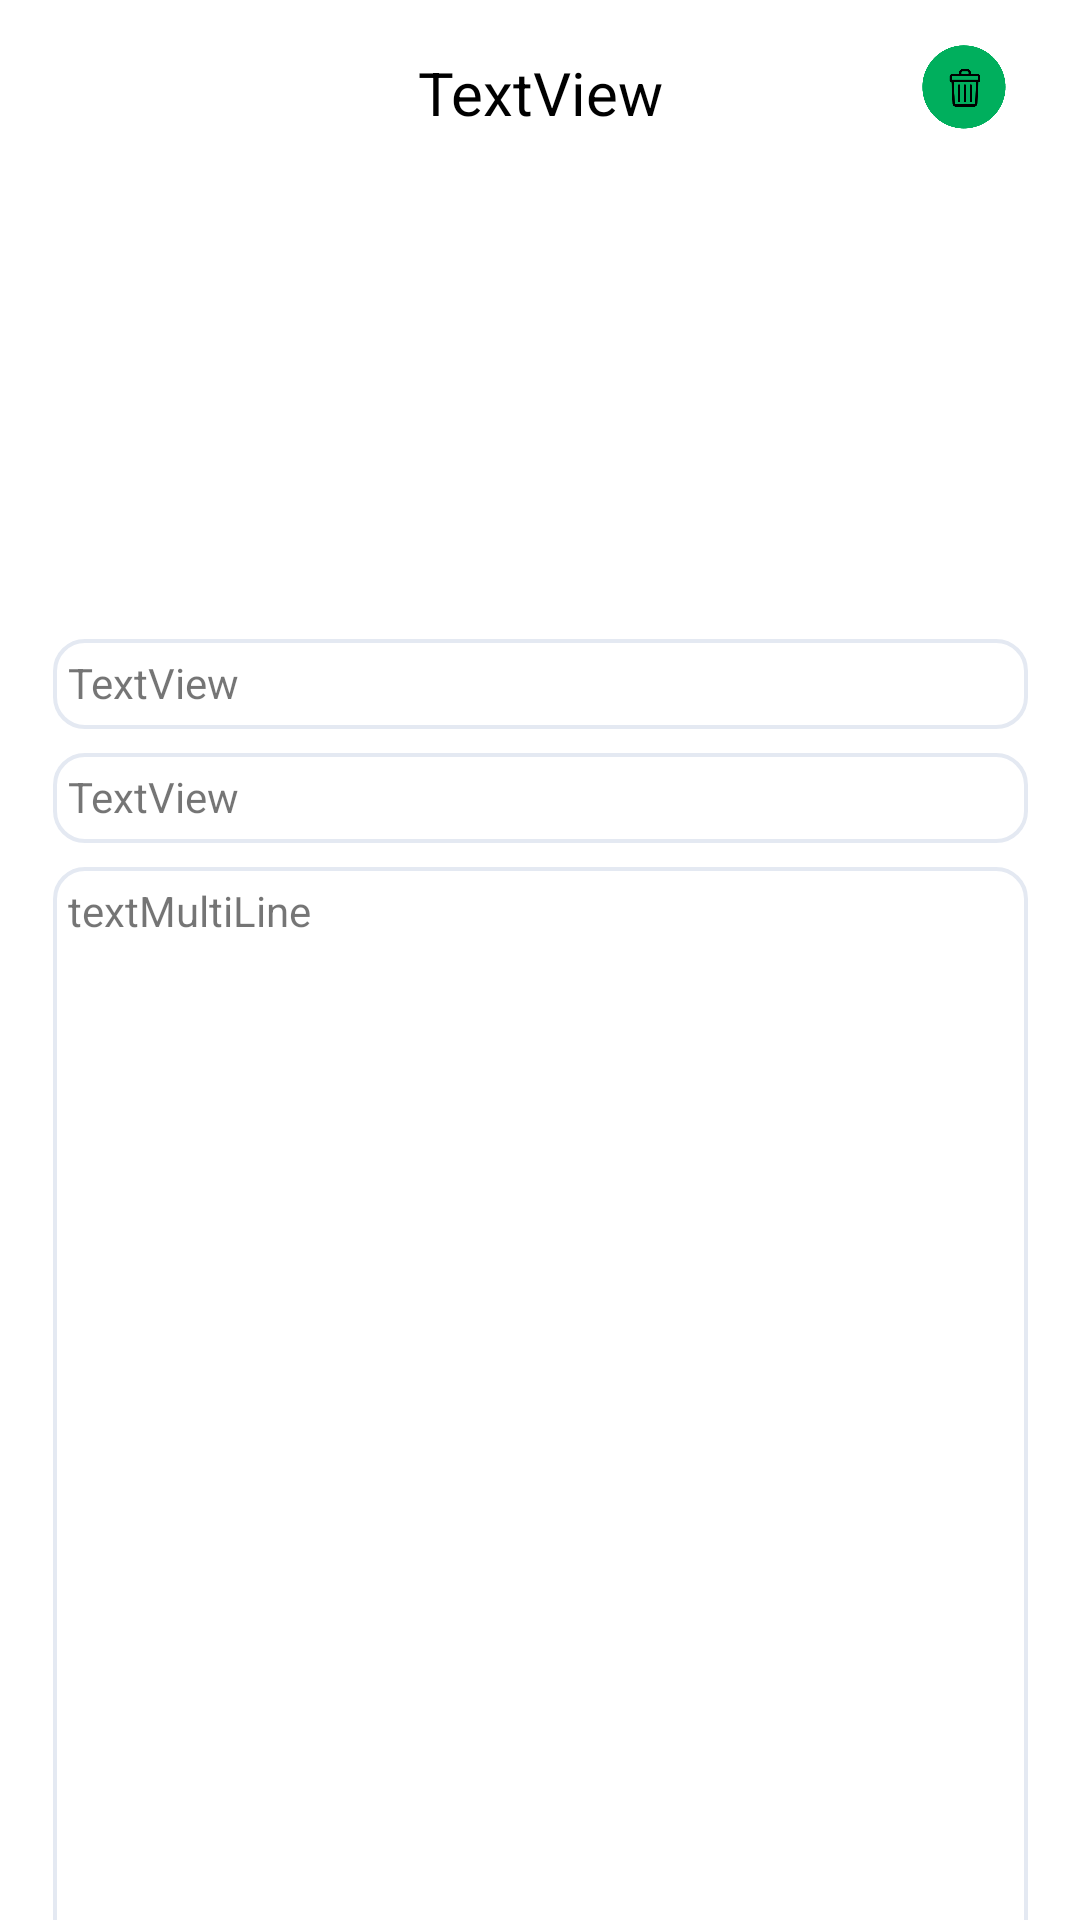

Screen size 1080 x 1920. Icon name, then its center in pixels as (x=x, y=y):
deletebtn: (x=964, y=87)
